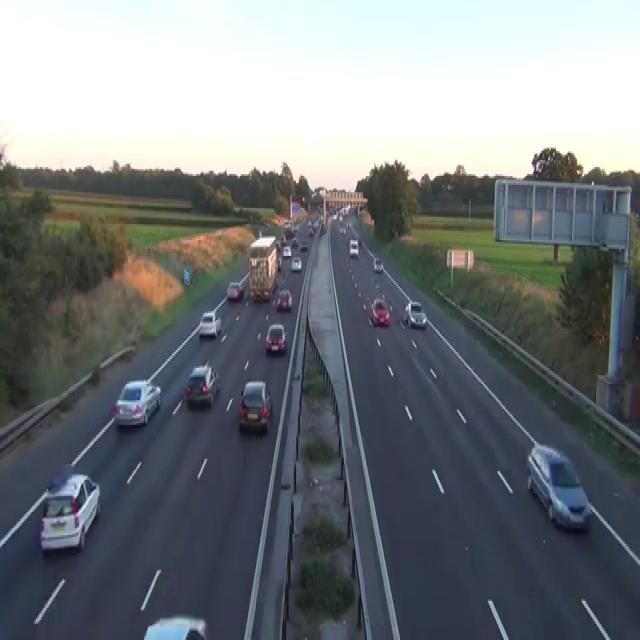Car: (525, 442, 591, 532), (39, 466, 101, 553), (114, 378, 161, 426), (238, 379, 272, 432), (184, 361, 220, 407), (141, 615, 207, 638), (198, 309, 221, 338), (265, 324, 286, 354), (404, 301, 427, 327), (370, 297, 389, 327), (275, 288, 292, 311), (226, 281, 243, 300), (349, 238, 358, 258), (290, 256, 302, 270), (373, 256, 383, 272), (283, 222, 292, 235), (282, 245, 291, 256), (300, 240, 308, 251), (293, 222, 300, 233), (280, 233, 286, 245), (291, 237, 298, 247), (283, 220, 291, 228), (446, 182, 454, 190), (273, 217, 280, 226), (233, 204, 240, 213), (277, 256, 281, 270), (339, 226, 346, 234), (321, 222, 326, 233), (275, 240, 280, 251), (346, 220, 351, 230), (308, 228, 314, 236), (441, 183, 446, 190), (307, 218, 311, 226), (332, 212, 337, 218)
Truck: (248, 234, 277, 300)
